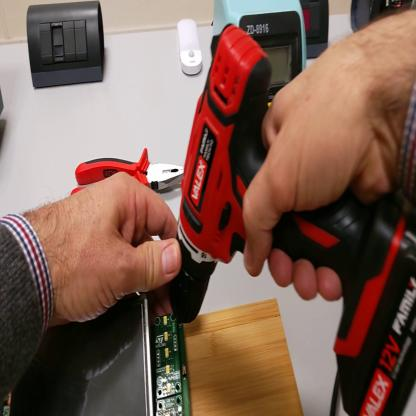electric screwdriver: (172, 20, 416, 357)
hand: (242, 28, 390, 301), (39, 172, 185, 328)
low voltage board: (1, 296, 195, 415)
pliers: (71, 153, 185, 201)
socket: (352, 1, 415, 36), (299, 1, 331, 60)
welder station: (213, 2, 309, 106)
working area: (185, 299, 306, 414)
